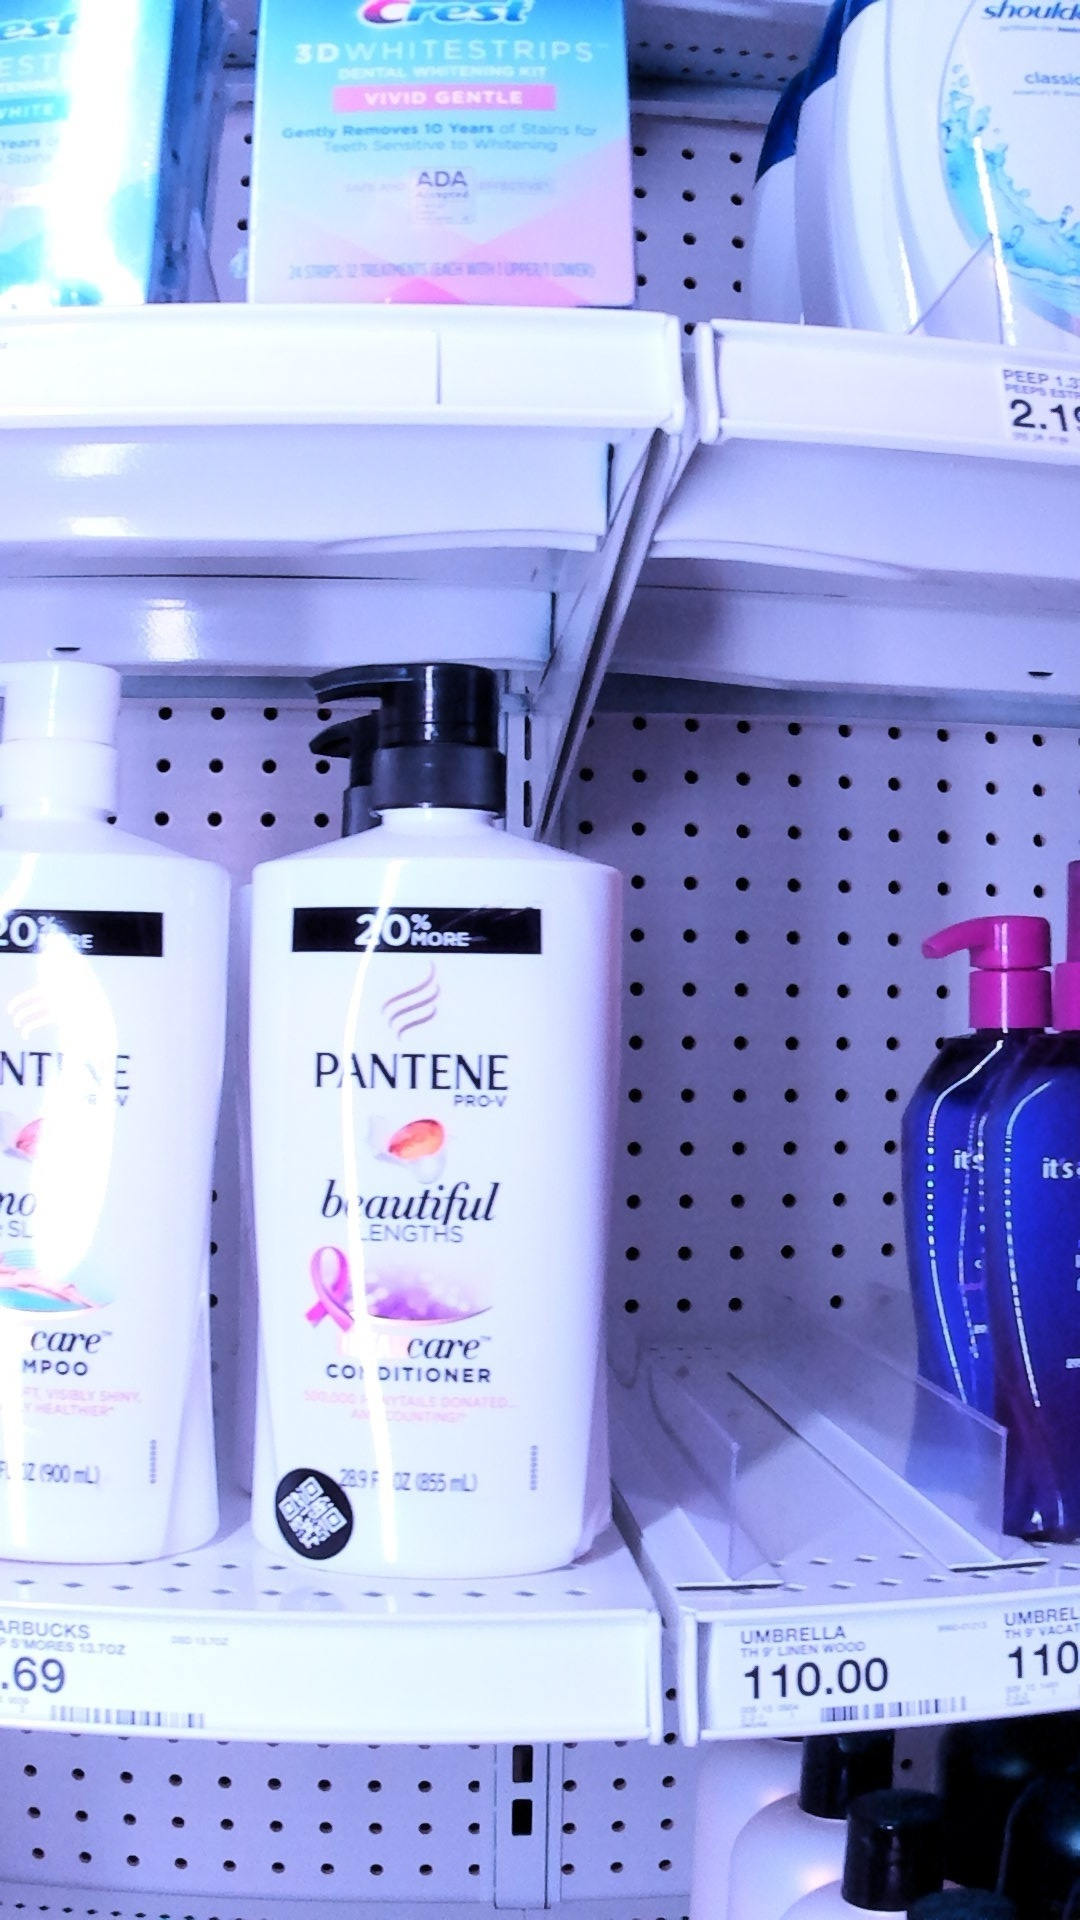ptag: (680, 1611, 982, 1726), (1, 1615, 240, 1730)
